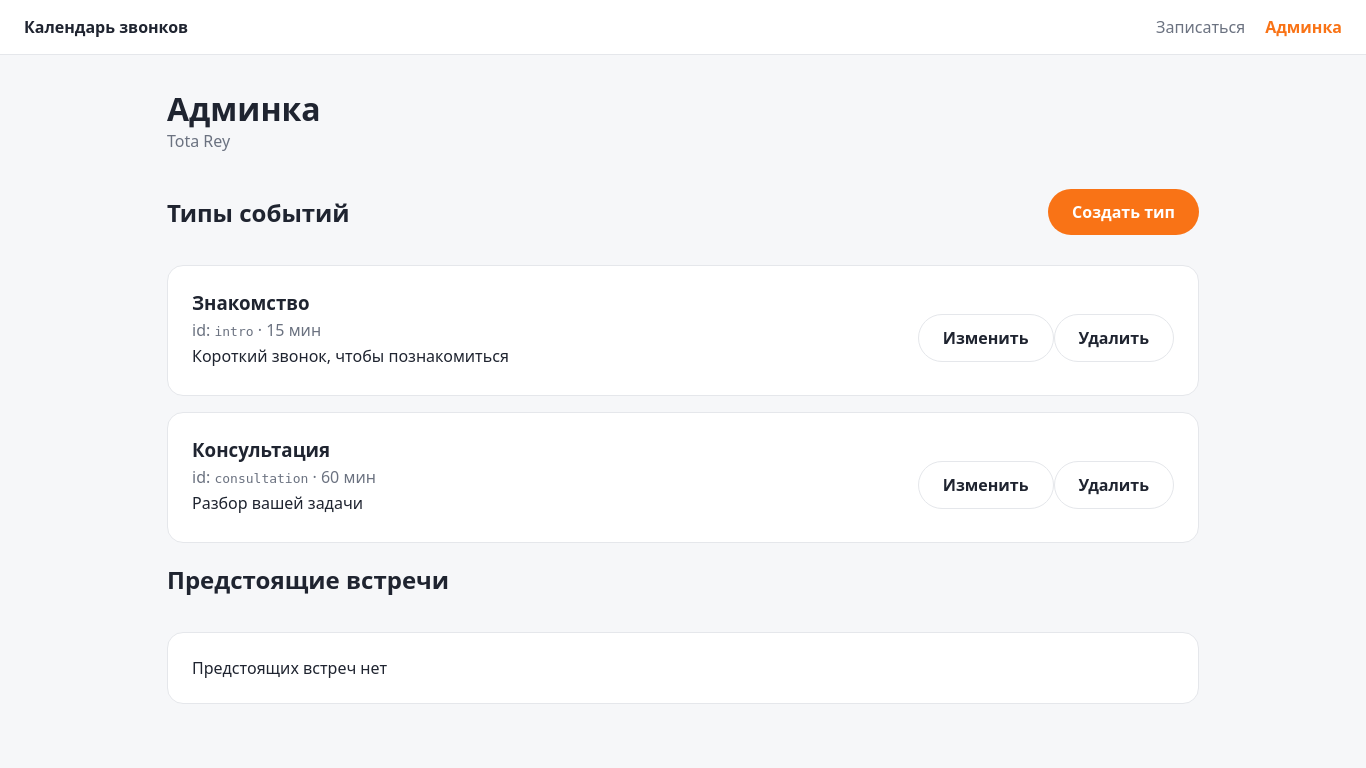
it: admin event types › says "Тип не найден" and reloads on 404 while editing
Click the button with aria-label "Изменить Знакомство": (986, 338) [918, 314, 1054, 362]
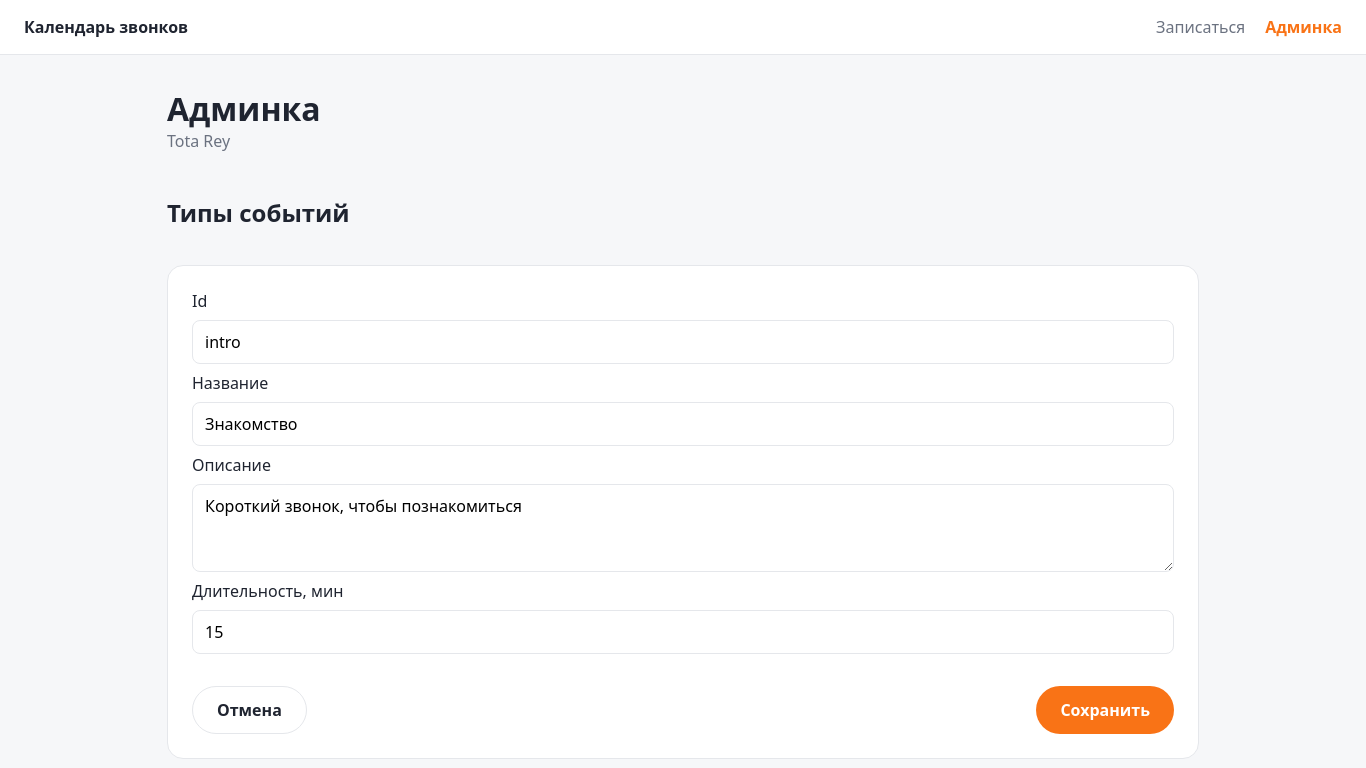
Click the button "Сохранить": (1105, 710) [1036, 686, 1174, 734]
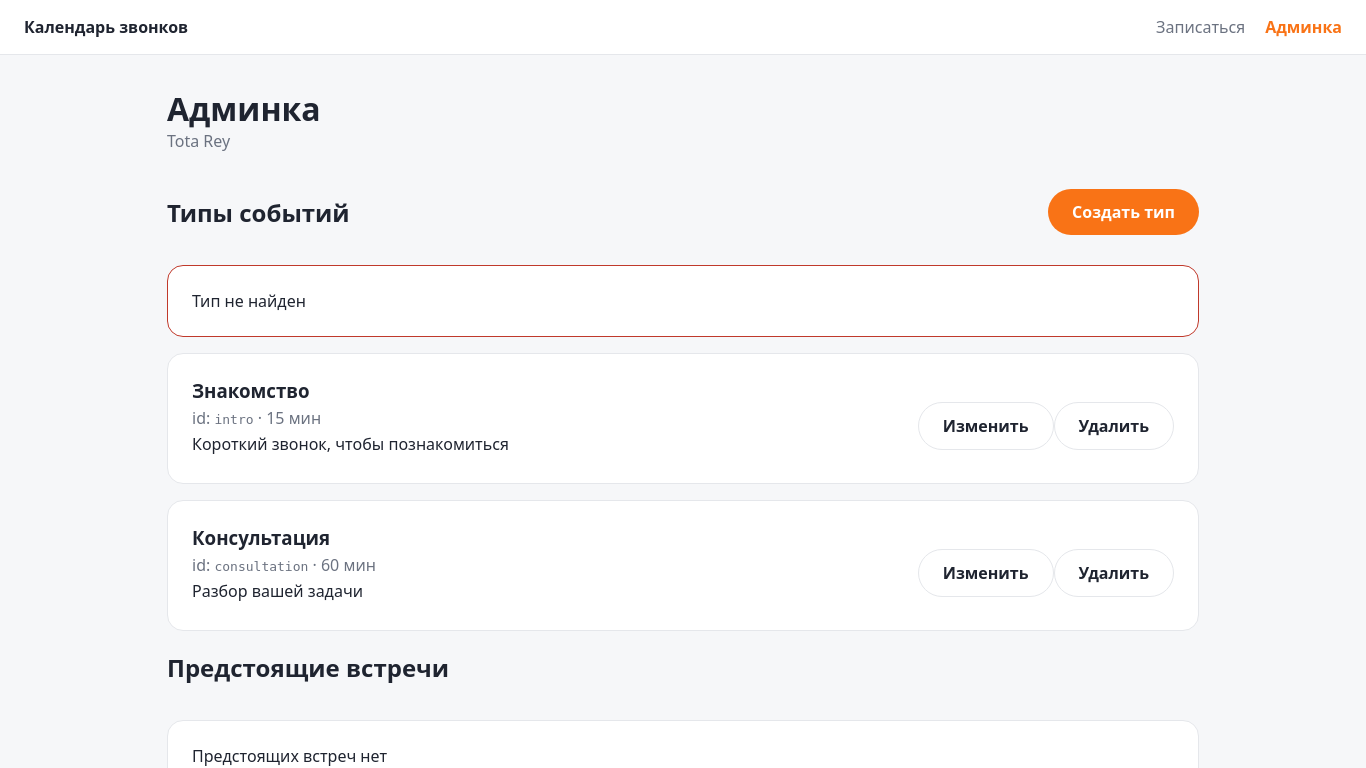
Result: the message reads "Тип не найден" at [192, 290, 306, 312]
